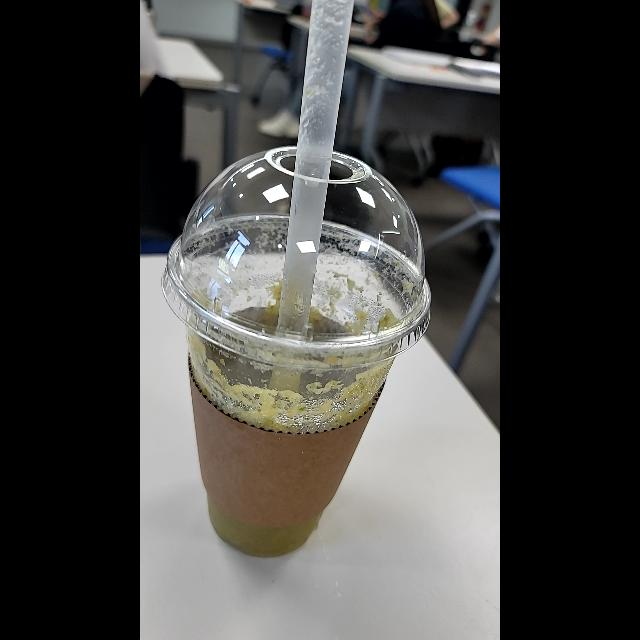plastic_cup: (158, 145, 434, 558)
plastic_cup_lid: (152, 143, 434, 371)
straw: (277, 0, 361, 408)
